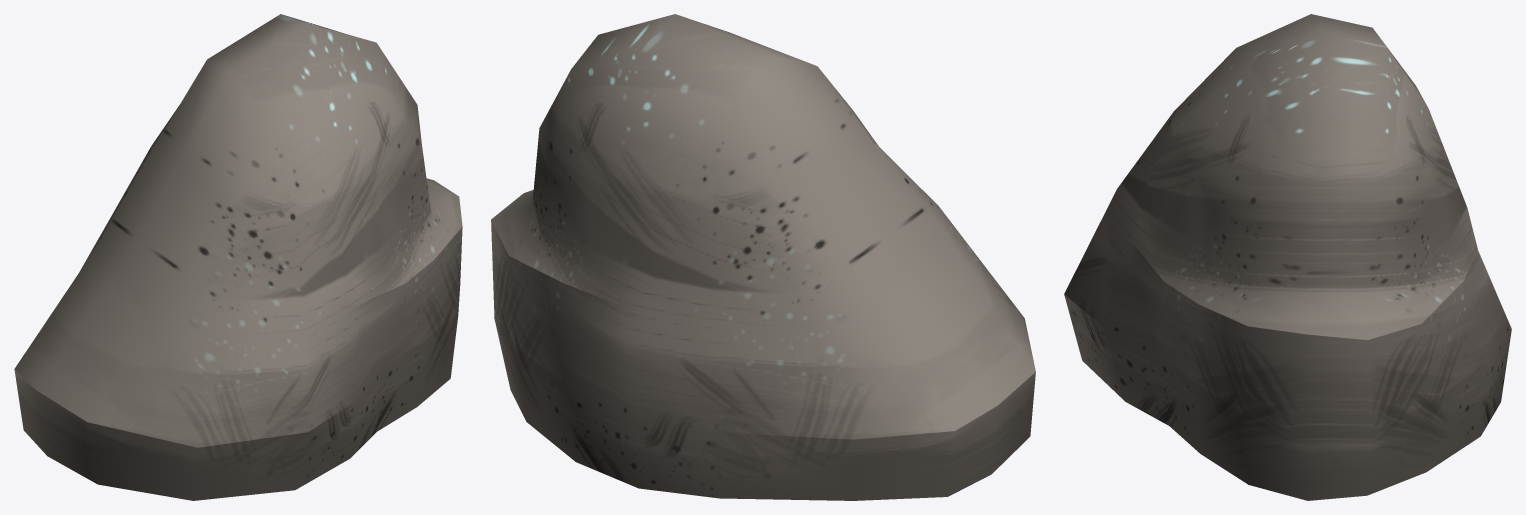
File: Rock2.fbx
3 renders of one model, left to right at view 1: azimuth 30°, elevation 25°; view 2: azimuth 150°, elevation 25°; view 3: azimuth 270°, elevation 25°, orthographic. The views are drawn at different scales.
Parts seen in each view (by area): view 1: Rock2; view 2: Rock2; view 3: Rock2.
Boxes of the visible parts, <box> form: Rock2: <box>14,14,462,500</box>; Rock2: <box>491,14,1035,500</box>; Rock2: <box>1064,14,1511,500</box>.
Size of the model in its own units: 3171 by 2533 by 2615.
